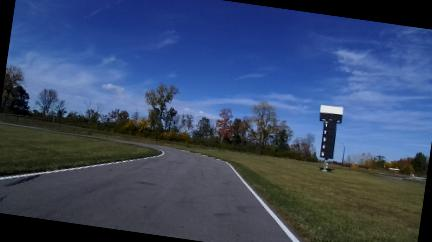Grass: (175, 145, 425, 241), (187, 149, 425, 241), (0, 124, 161, 175)
Lane: (0, 145, 292, 241)
